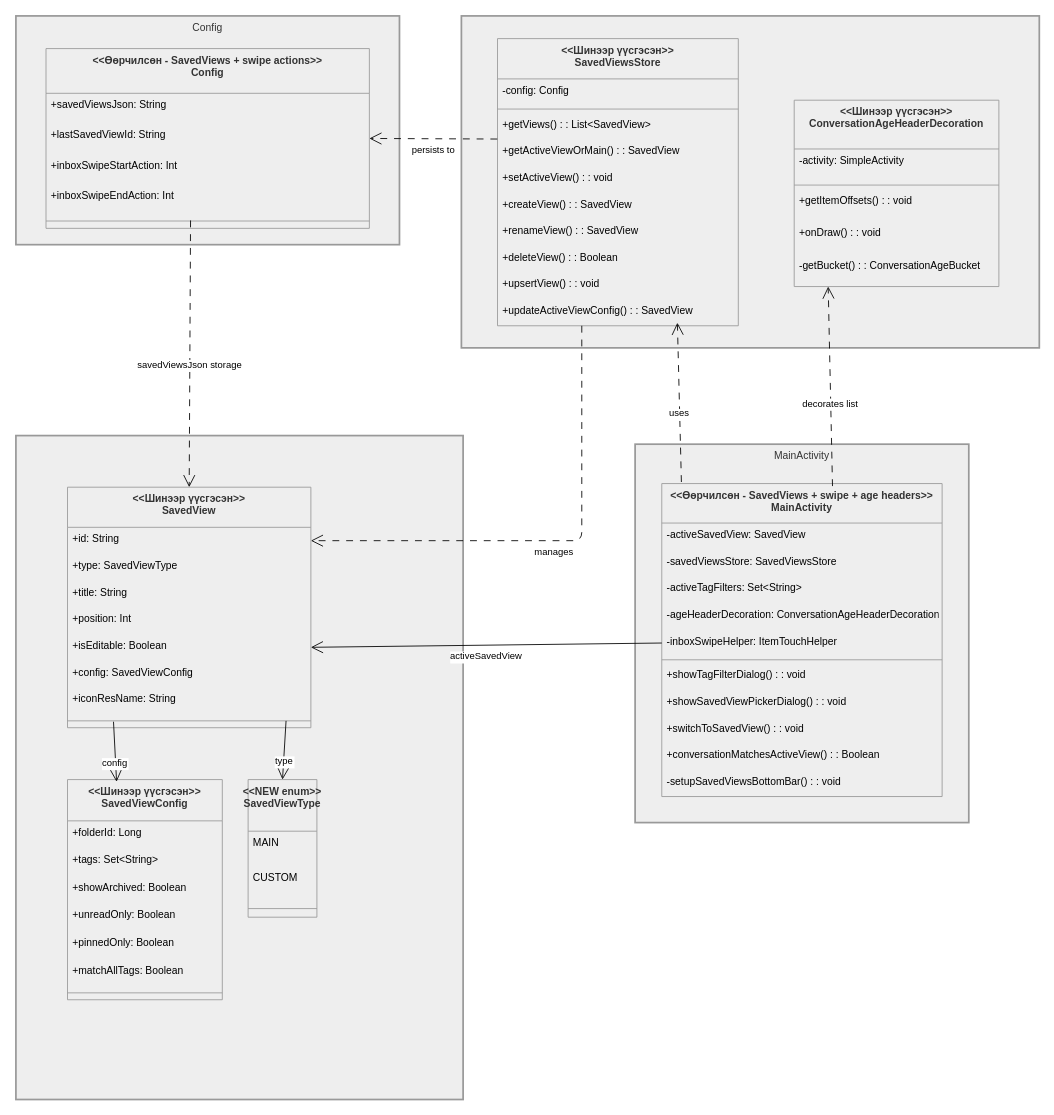
This 1054x1115 diagram has some shape labels left out. Here are the shapes that lost their labels. From the top down, the box of each, then its label:
(460, 15, 1040, 348): Helpers
(15, 434, 464, 1100): Models
